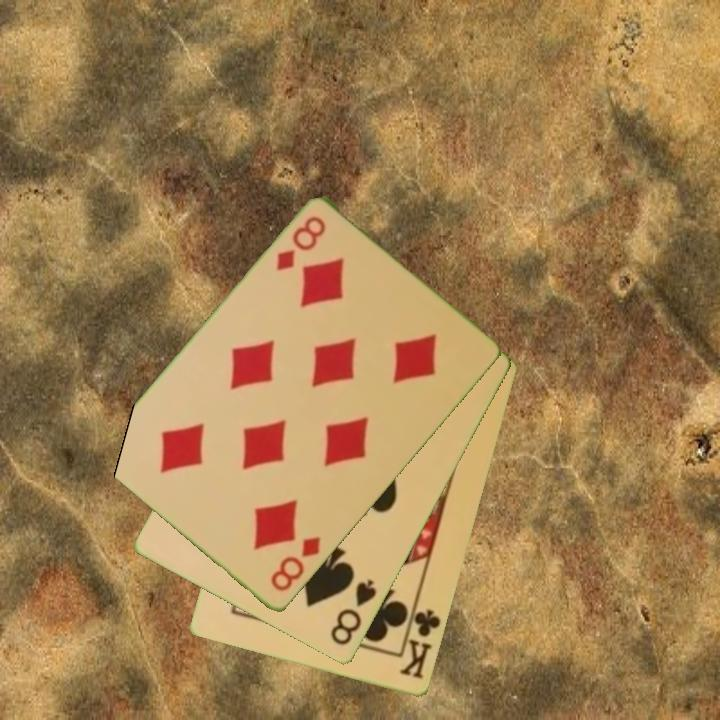8d: (267, 533, 324, 595), (272, 213, 329, 275)
8s: (327, 576, 380, 649)
Kc: (396, 599, 444, 683)
